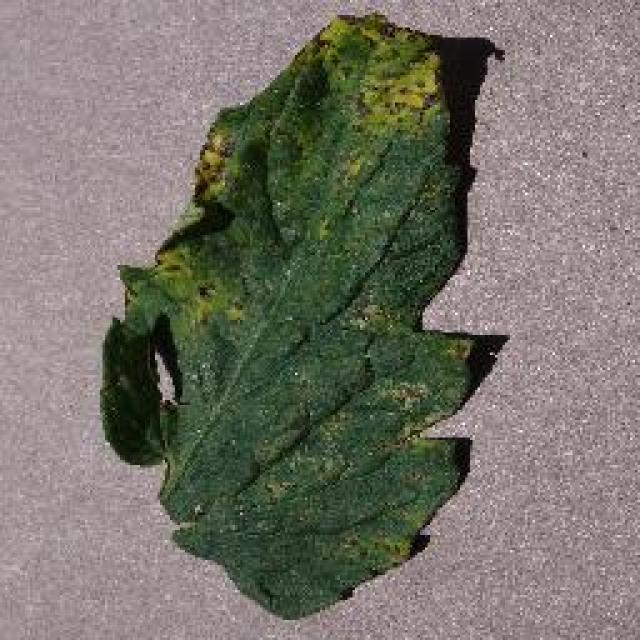Tomato target spot leaf: (99, 15, 484, 617)
